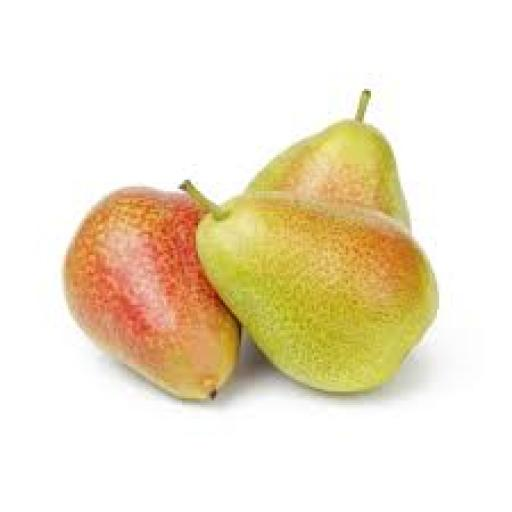Pear: (185, 185, 436, 391), (64, 189, 238, 400), (246, 92, 409, 225)
